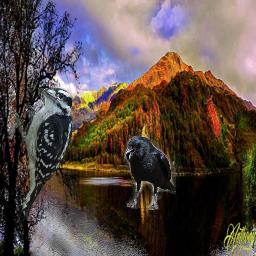Crow: (124, 136, 176, 210)
Woodpecker: (9, 85, 81, 220)
